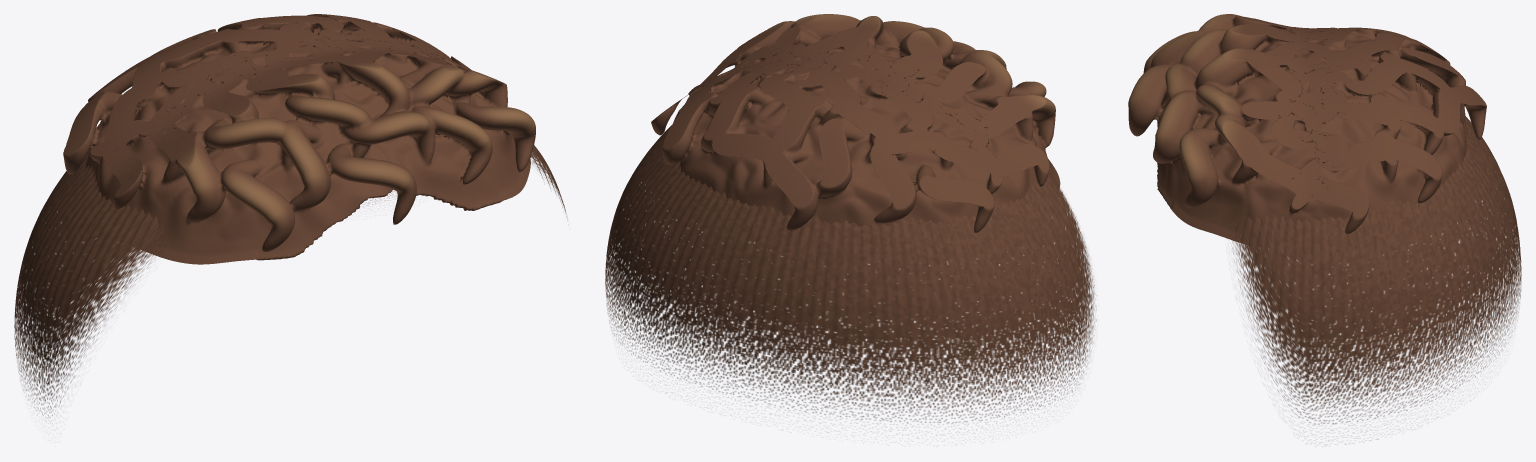
The model's file is Masculine-curly-top-pashmina256-hair-ombre.glb.
The picture shows the model from 3 angles, left to right: view 1: azimuth 30°, elevation 25°; view 2: azimuth 150°, elevation 25°; view 3: azimuth 270°, elevation 25°; orthographic projection. The views are drawn at different scales.
Visible parts, largest first — view 1: 226 hair / Hair252 / sculpted curl groups, 226 hair / Hair256 / selected B sides; view 2: 226 hair / Hair256 / selected B sides, 226 hair / Hair252 / sculpted curl groups; view 3: 226 hair / Hair252 / sculpted curl groups, 226 hair / Hair256 / selected B sides.
Part boxes in pixels (x1,y1,x2,y2): 226 hair / Hair252 / sculpted curl groups: (63, 14, 535, 264); 226 hair / Hair256 / selected B sides: (14, 145, 567, 417); 226 hair / Hair256 / selected B sides: (605, 125, 1096, 424); 226 hair / Hair252 / sculpted curl groups: (651, 14, 1060, 232); 226 hair / Hair252 / sculpted curl groups: (1128, 14, 1486, 244); 226 hair / Hair256 / selected B sides: (1229, 116, 1521, 439).
Bounding box in the file's own units: 0.972 × 0.6388 × 0.7498.
2 materials, 1 textured.
